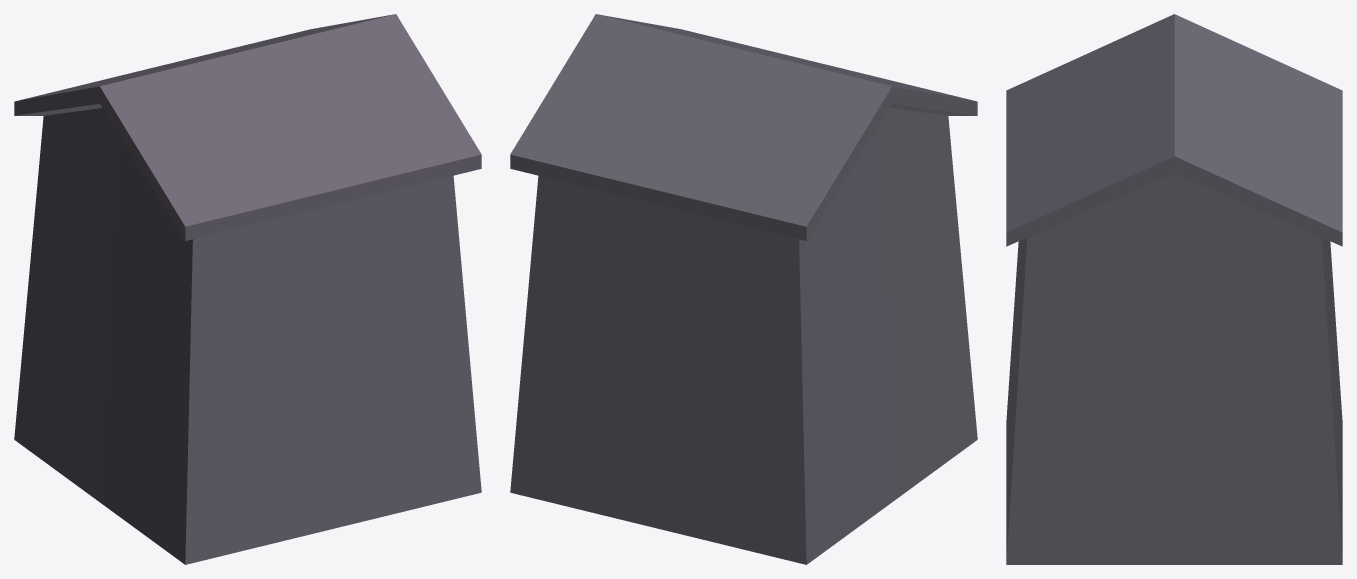
The model's file is casa 1.fbx.
The picture shows the model from 3 angles, left to right: view 1: azimuth 30°, elevation 25°; view 2: azimuth 150°, elevation 25°; view 3: azimuth 270°, elevation 25°; orthographic projection.
Visible parts, largest first — view 1: casa 1; view 2: casa 1; view 3: casa 1.
Boxes of the visible parts, <box> form: casa 1: <box>14,14,481,564</box>; casa 1: <box>510,14,977,564</box>; casa 1: <box>1006,14,1342,564</box>.
Bounding box in the file's own units: 2087 × 2799 × 2087.
